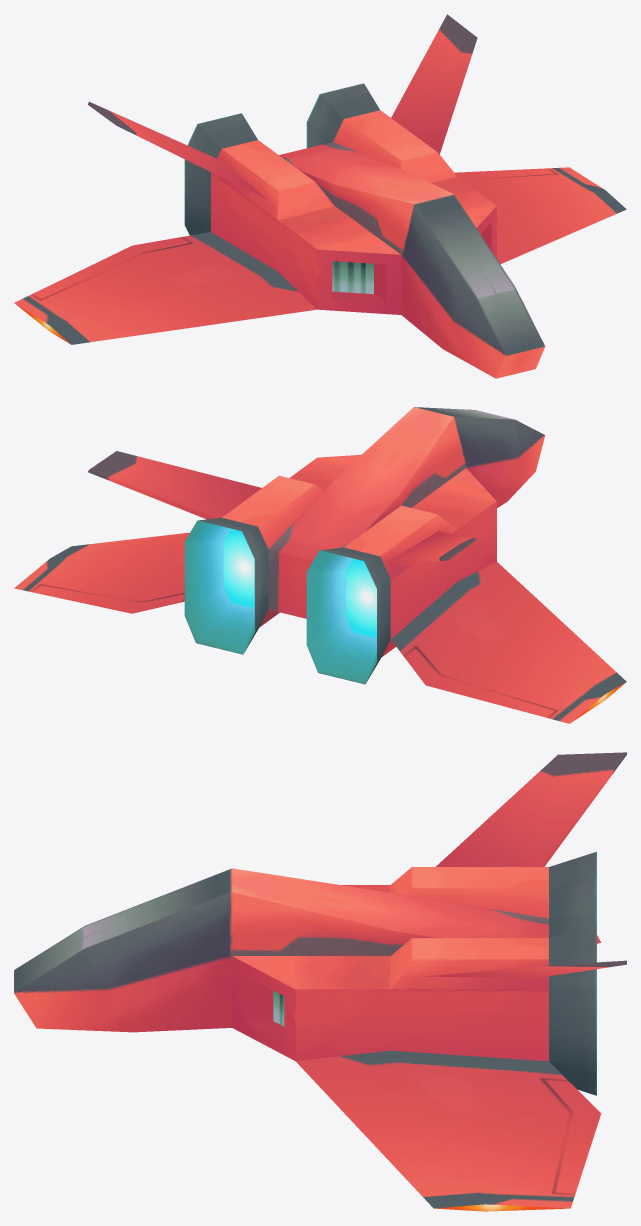
The model's file is low_poly_space_ship.fbx.
3 renders of one model, top to bottom at view 1: azimuth 30°, elevation 25°; view 2: azimuth 150°, elevation 25°; view 3: azimuth 270°, elevation 25°, orthographic. The views are drawn at different scales.
Visible parts, largest first — view 1: empty_3; view 2: empty_3; view 3: empty_3.
Part boxes in pixels (box(x1,y1,x2,y2)): empty_3: box(14, 14, 626, 378); empty_3: box(14, 407, 626, 723); empty_3: box(14, 752, 626, 1211).
Bounding box in the file's own units: 483 × 135 × 387.
